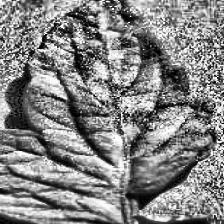leaf mold: (0, 0, 219, 224)
